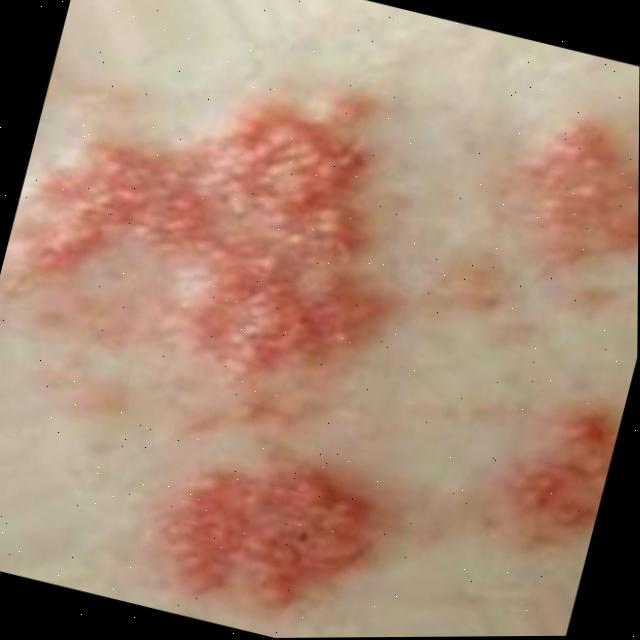Shingles: (1, 21, 443, 422), (135, 429, 385, 634), (493, 99, 639, 293), (499, 397, 621, 558)
